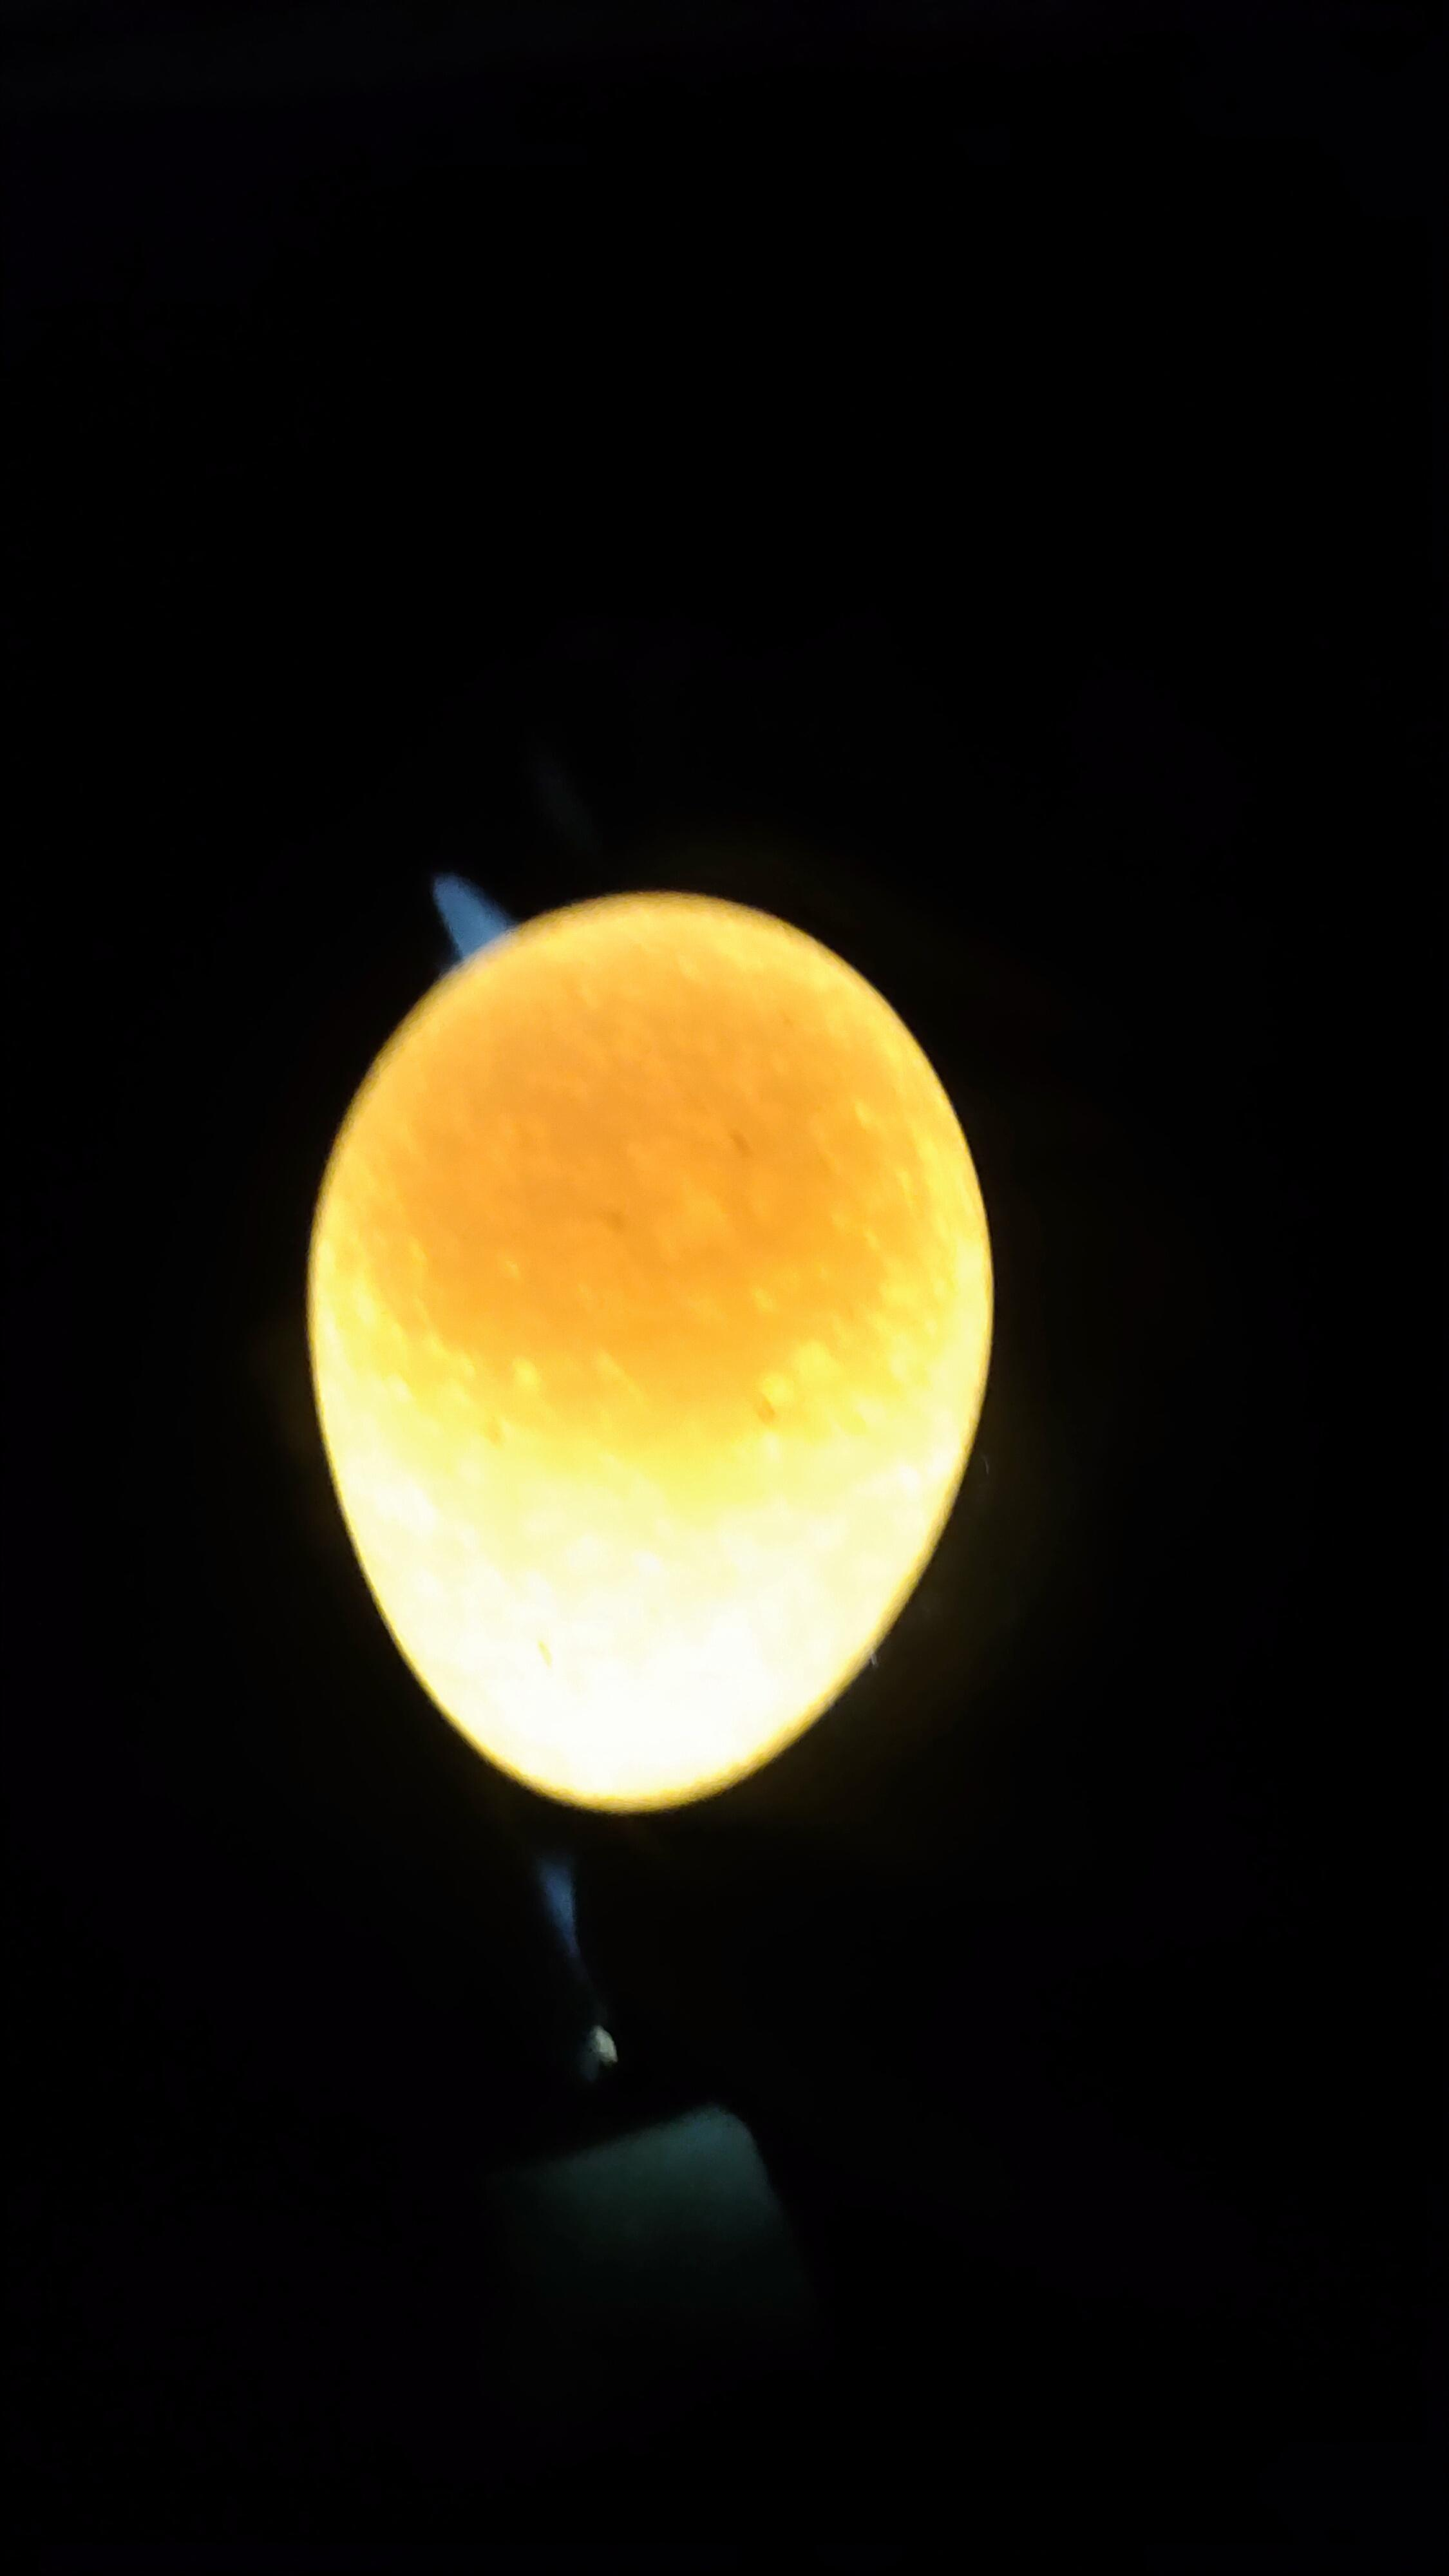Inedible: (239, 824, 1049, 1893)
